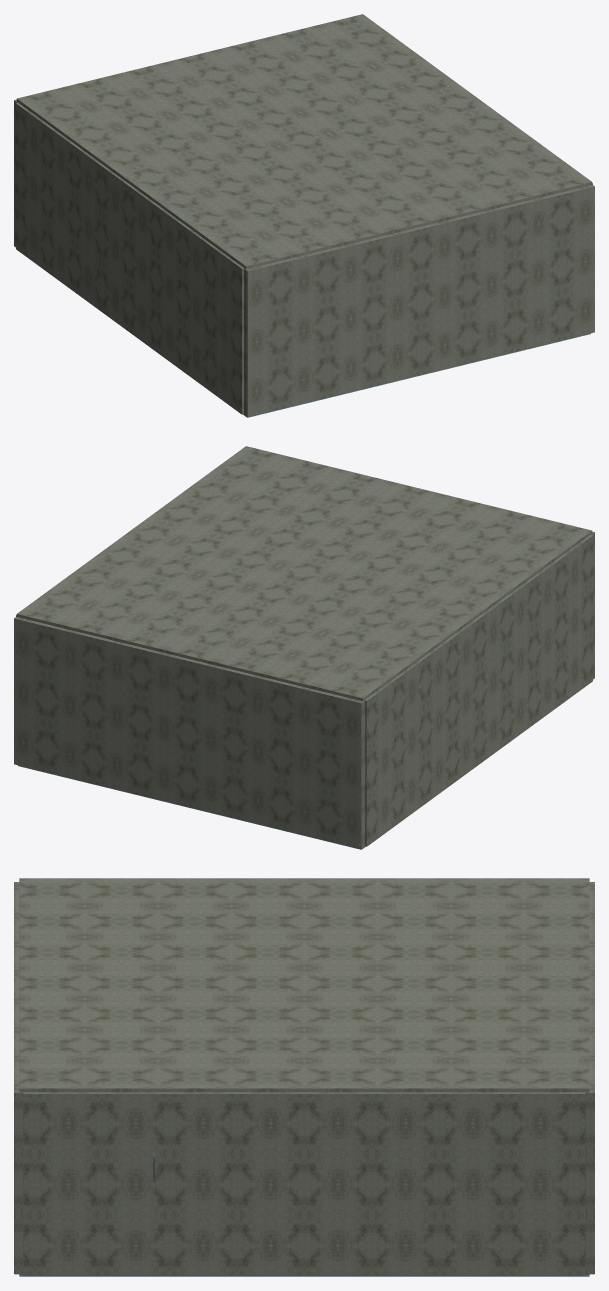
File: case2-alley.glb
3 views of the same model, one above another, from view 1: azimuth 30°, elevation 25°; view 2: azimuth 150°, elevation 25°; view 3: azimuth 270°, elevation 25° (orthographic). The views are drawn at different scales.
Parts seen in each view (by area): view 1: ENV_WALL_AGED, ENV_CEILING_SMOKE_STAINED; view 2: ENV_WALL_AGED, ENV_CEILING_SMOKE_STAINED; view 3: ENV_CEILING_SMOKE_STAINED, ENV_WALL_AGED, ENV_WET_REFLECTIVE_FLOOR.
Part boxes in pixels (box(x1,y1,x2,y2)): ENV_WALL_AGED: box(14, 99, 594, 416); ENV_CEILING_SMOKE_STAINED: box(16, 14, 592, 269); ENV_WALL_AGED: box(14, 531, 594, 848); ENV_CEILING_SMOKE_STAINED: box(16, 446, 592, 701); ENV_CEILING_SMOKE_STAINED: box(19, 878, 589, 1092); ENV_WALL_AGED: box(14, 882, 594, 1275); ENV_WET_REFLECTIVE_FLOOR: box(19, 1274, 589, 1276).
Size of the model in its own units: 13.37 by 5.41 by 15.08.
21 materials, 8 textured.
